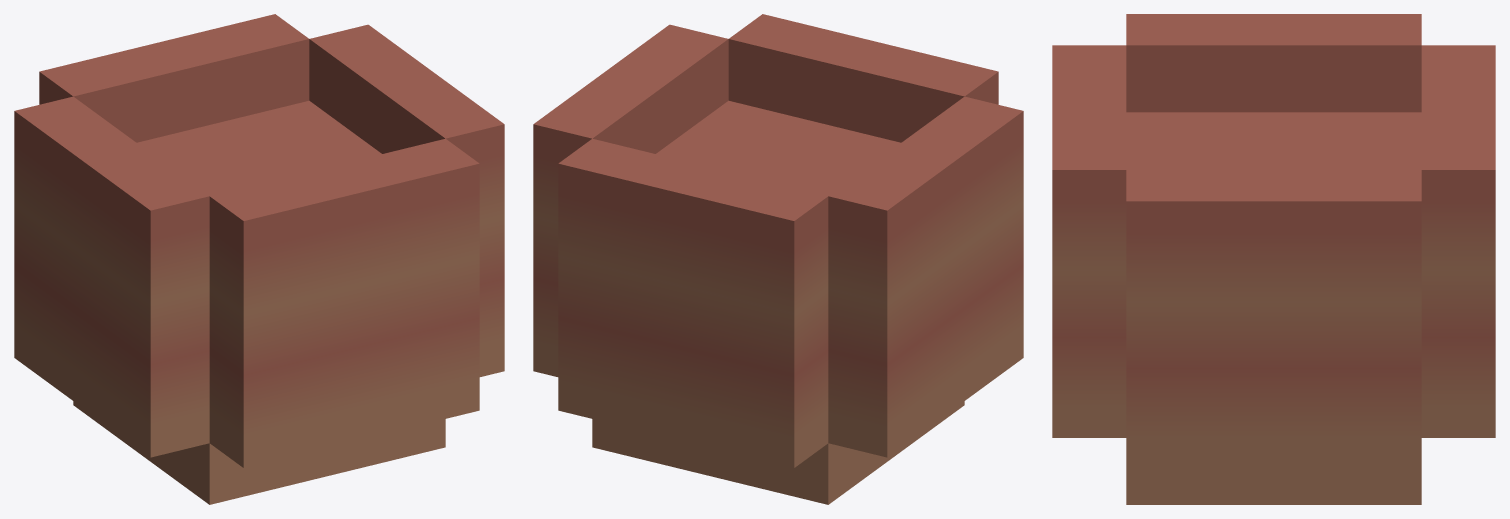
File: Plates_Stack_00.fbx
3 renders of one model, left to right at view 1: azimuth 30°, elevation 25°; view 2: azimuth 150°, elevation 25°; view 3: azimuth 270°, elevation 25°, orthographic. The views are drawn at different scales.
Parts seen in each view (by area): view 1: Plates_Stack_00; view 2: Plates_Stack_00; view 3: Plates_Stack_00.
Part boxes in pixels (x1,y1,x2,y2): Plates_Stack_00: (14, 14, 504, 504); Plates_Stack_00: (533, 14, 1023, 504); Plates_Stack_00: (1052, 14, 1495, 504).
Bounding box in the file's own units: 30 × 25 × 30.
